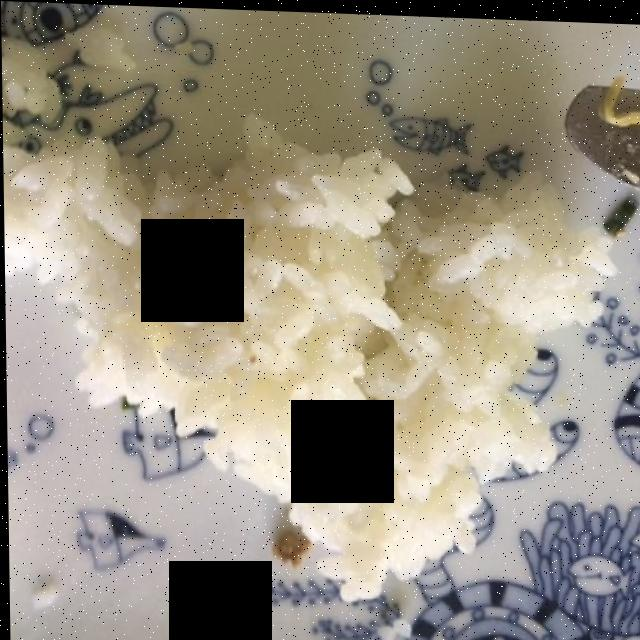rice: (15, 135, 606, 579)
